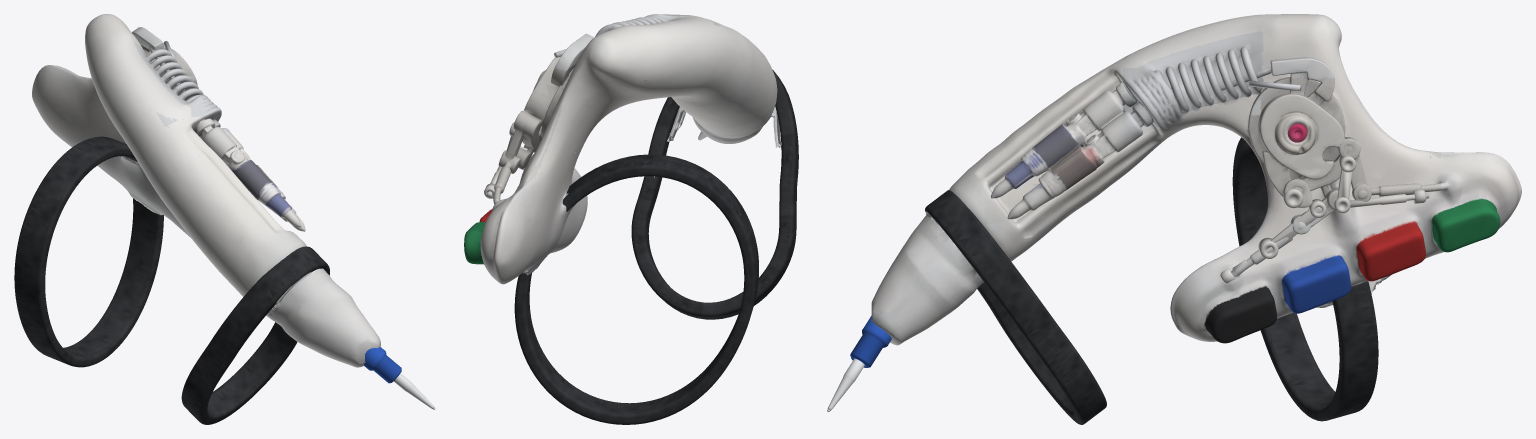
The model's file is somepen-v2.glb.
3 views of the same model, side by side, from view 1: azimuth 30°, elevation 25°; view 2: azimuth 150°, elevation 25°; view 3: azimuth 270°, elevation 25° (orthographic). The views are drawn at different scales.
Visible parts, largest first — view 1: Pen_Concept_Body, Pen_Rubber_Rings, Pen_Tip_Assembly; view 2: Pen_Concept_Body, Pen_Rubber_Rings, Pen_Linkage_Hardware; view 3: Pen_Concept_Body, Pen_Rubber_Rings, Pen_Linkage_Hardware, Pen_Tip_Assembly.
Part boxes in pixels (x1,y1,x2,y2): Pen_Concept_Body: [32, 14, 380, 367]; Pen_Rubber_Rings: [14, 136, 329, 424]; Pen_Tip_Assembly: [363, 347, 435, 409]; Pen_Concept_Body: [464, 14, 781, 284]; Pen_Rubber_Rings: [514, 69, 798, 424]; Pen_Linkage_Hardware: [484, 49, 566, 198]; Pen_Concept_Body: [871, 14, 1521, 345]; Pen_Rubber_Rings: [925, 137, 1378, 424]; Pen_Linkage_Hardware: [1220, 80, 1429, 283]; Pen_Tip_Assembly: [827, 316, 891, 411].
Bounding box in the file's own units: 0.0714 × 0.0981 × 0.1533.
Materials: 14 (9 with a texture image).
